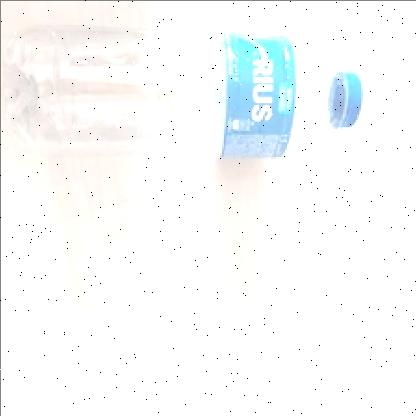Plastic Bottle: (2, 27, 362, 160)
